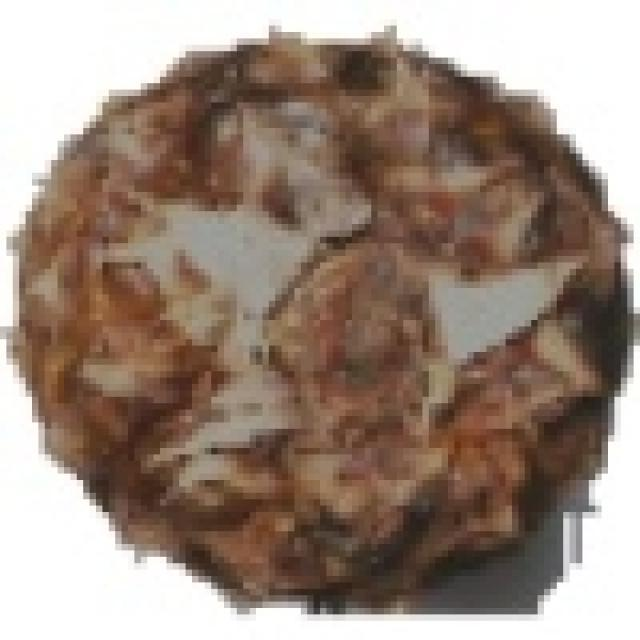pineapple: (6, 26, 614, 595)
